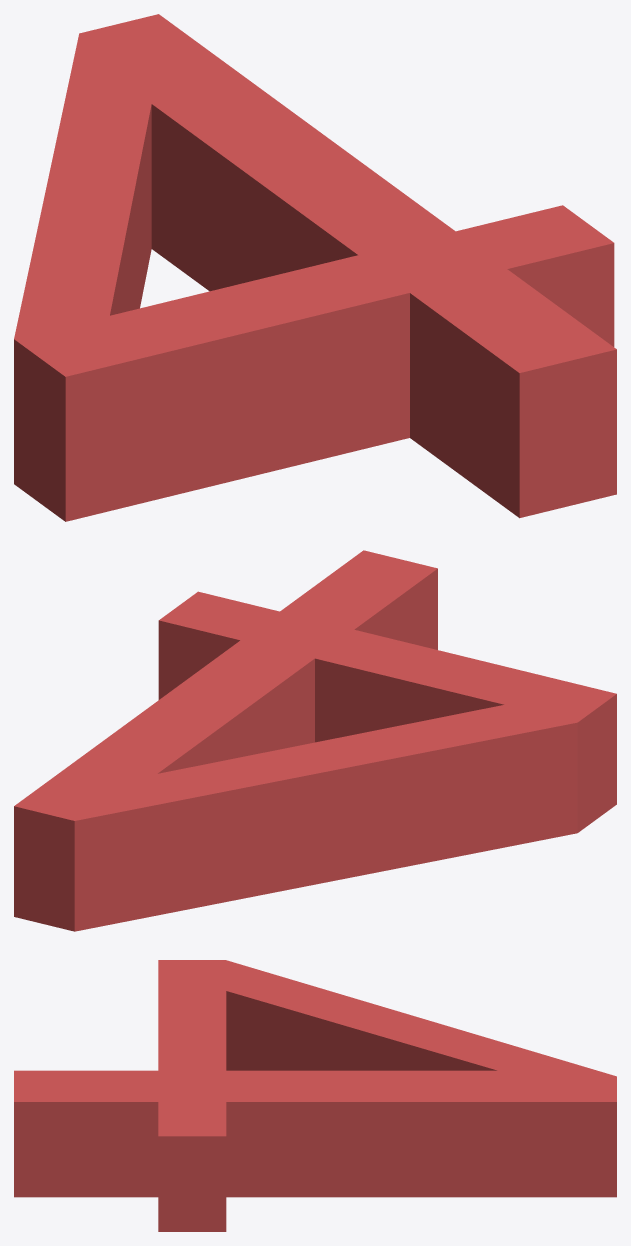
3 renders of one model, top to bottom at view 1: azimuth 30°, elevation 25°; view 2: azimuth 150°, elevation 25°; view 3: azimuth 270°, elevation 25°, orthographic. The views are drawn at different scales.
Visible parts, largest first — view 1: Body66; view 2: Body66; view 3: Body66.
Boxes of the visible parts, box(x1,y1,x2,y2) form: Body66: box(14, 14, 616, 521); Body66: box(14, 550, 616, 931); Body66: box(14, 960, 616, 1231).
Size of the model in its own units: 19.8 by 5 by 28.63.
